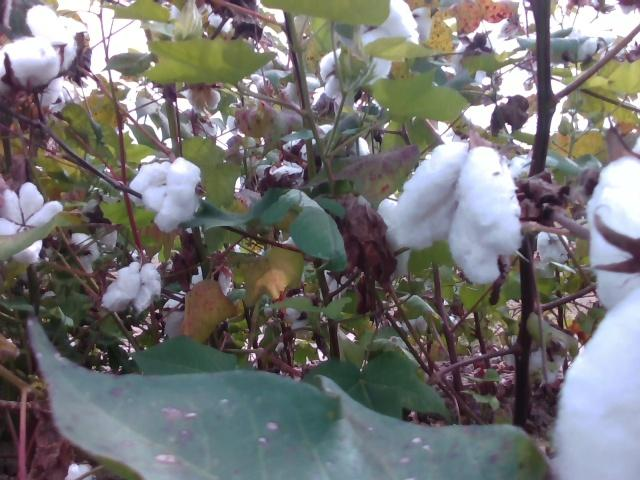cotton_ready: (390, 140, 522, 286), (555, 291, 640, 480), (586, 158, 640, 310), (126, 158, 201, 233), (0, 182, 64, 265), (356, 194, 411, 279), (26, 6, 88, 73), (505, 322, 578, 372), (0, 37, 61, 94), (100, 261, 164, 315), (362, 0, 421, 45), (78, 196, 117, 252), (455, 35, 493, 84), (43, 79, 82, 126), (316, 123, 370, 156), (256, 161, 306, 191), (319, 47, 346, 99), (163, 287, 190, 339), (191, 265, 230, 298), (281, 188, 326, 216), (318, 269, 353, 303), (70, 234, 100, 273), (284, 294, 316, 330), (538, 232, 571, 265), (200, 4, 232, 35), (364, 53, 390, 86), (566, 37, 599, 62), (149, 249, 183, 272), (284, 139, 317, 162), (67, 462, 93, 480)
